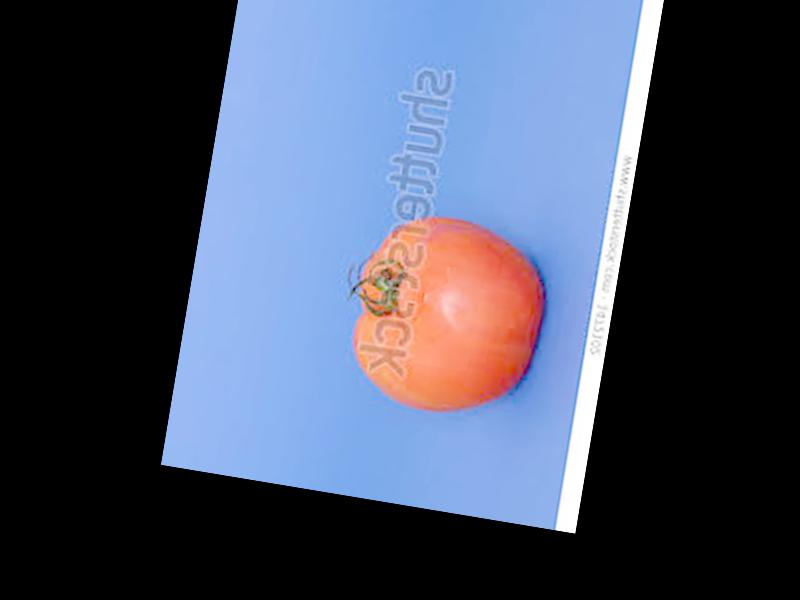Tomato: (339, 207, 552, 429)
